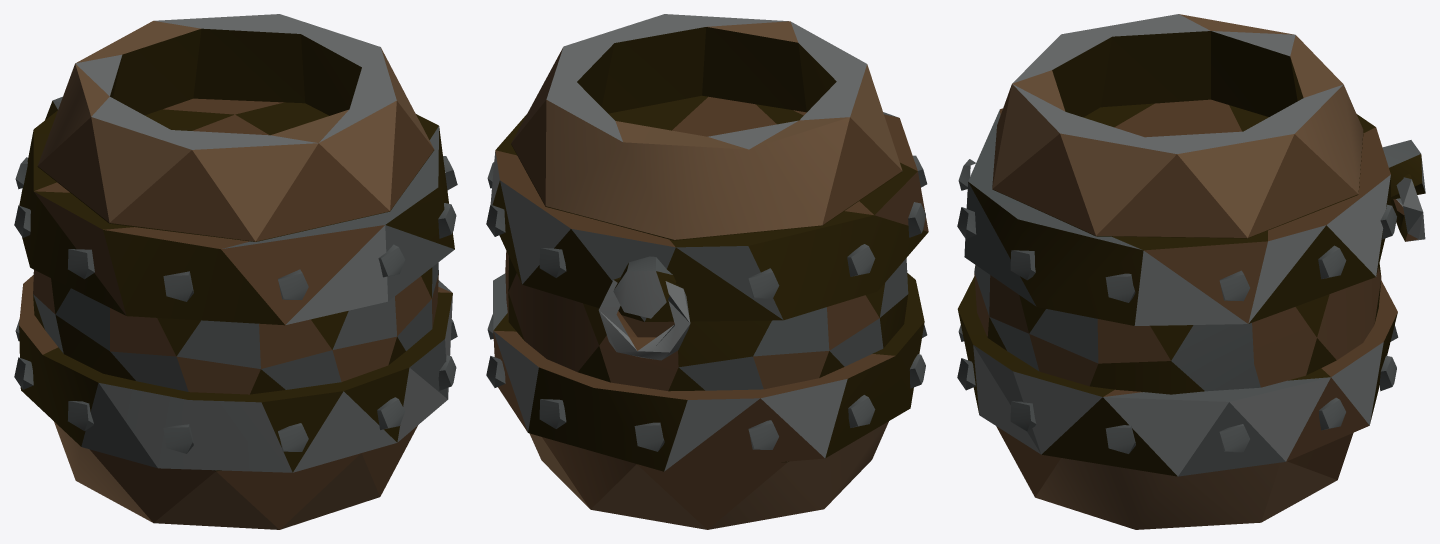
Rendered from barrel.glb.
3 renders of one model, left to right at view 1: azimuth 30°, elevation 25°; view 2: azimuth 150°, elevation 25°; view 3: azimuth 270°, elevation 25°, orthographic.
Visible parts, largest first — view 1: c0, c4, c2, c3, c1; view 2: c0, c2, c4, c3, c1; view 3: c4, c0, c3, c2, c1.
Boxes of the visible parts, x1,y1,x2,y2 form: c0: (19, 28, 454, 472); c4: (19, 98, 452, 529); c2: (38, 21, 433, 529); c3: (75, 14, 452, 472); c1: (14, 96, 457, 470); c0: (492, 27, 928, 471); c2: (512, 21, 902, 529); c4: (493, 96, 928, 529); c3: (490, 14, 866, 471); c1: (486, 112, 927, 451); c4: (974, 85, 1417, 496); c0: (957, 31, 1425, 476); c3: (965, 14, 1425, 476); c2: (992, 14, 1363, 529); c1: (957, 109, 1422, 476).
Bounding box in the file's own units: 0.9514 × 0.9002 × 1.01.
